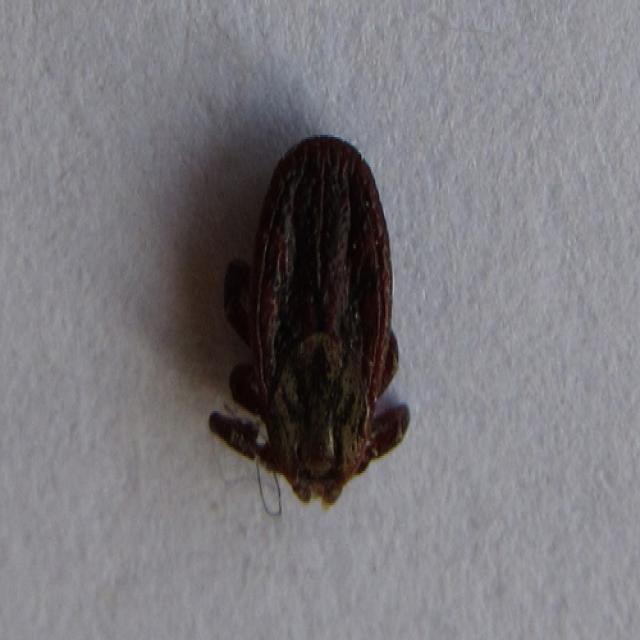Dermacentor Reticulatus-F: (207, 133, 411, 507)
